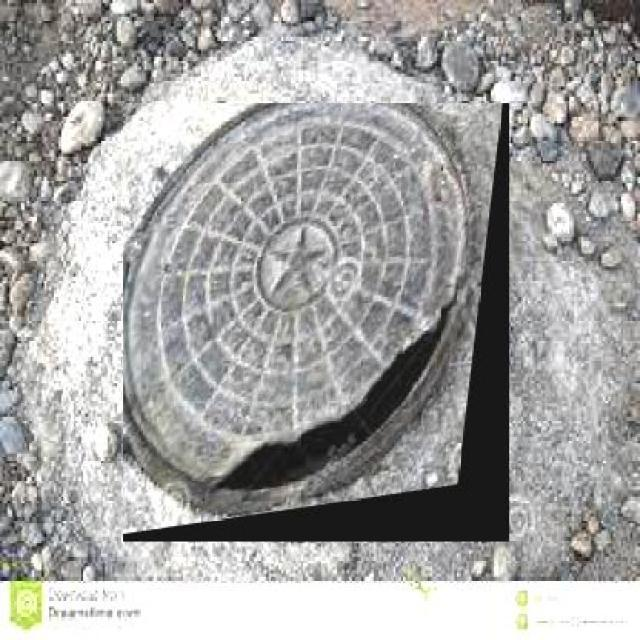Manhole: (123, 103, 509, 542)
Pothole: (221, 421, 368, 502), (361, 347, 443, 432)
